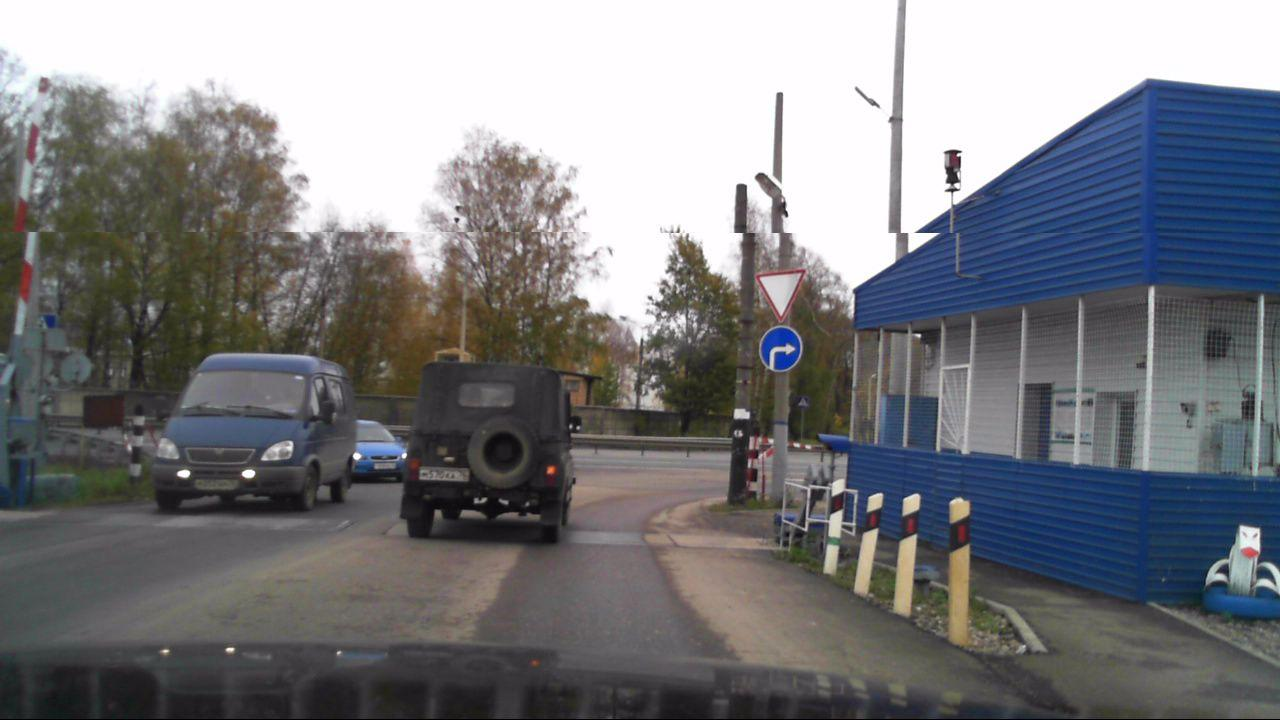2_4: (756, 269, 807, 321)
4_1_2: (759, 326, 801, 372)
